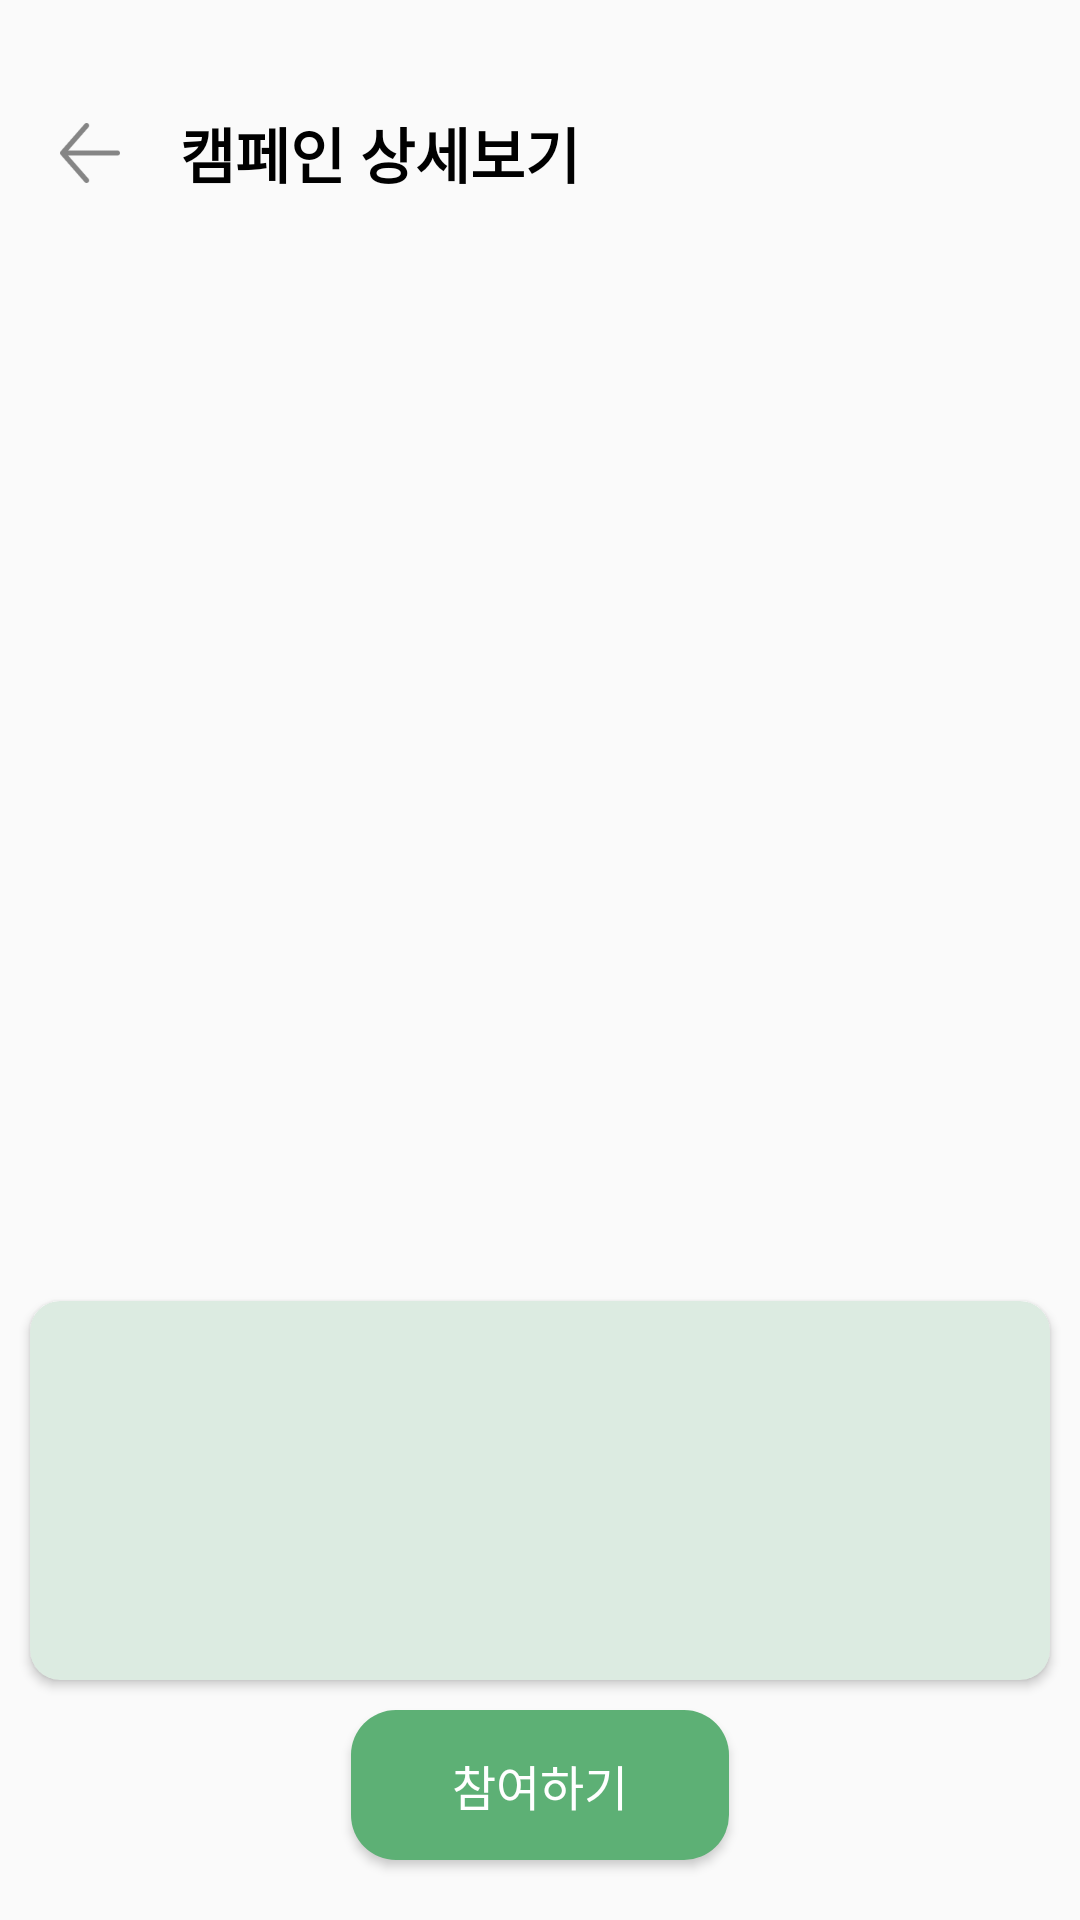

Screen size 1080px x 1920px. Icon name, then its center in pixels as (x=x, y=y):
back: (x=90, y=153)
